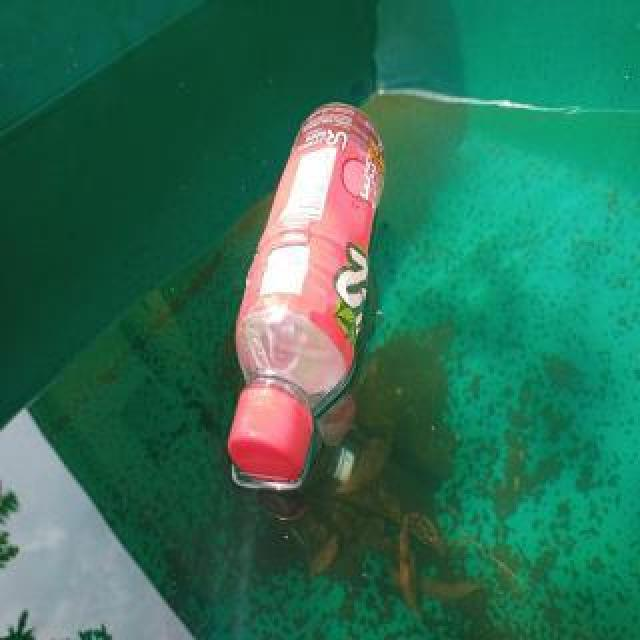bottle: (225, 96, 387, 490)
